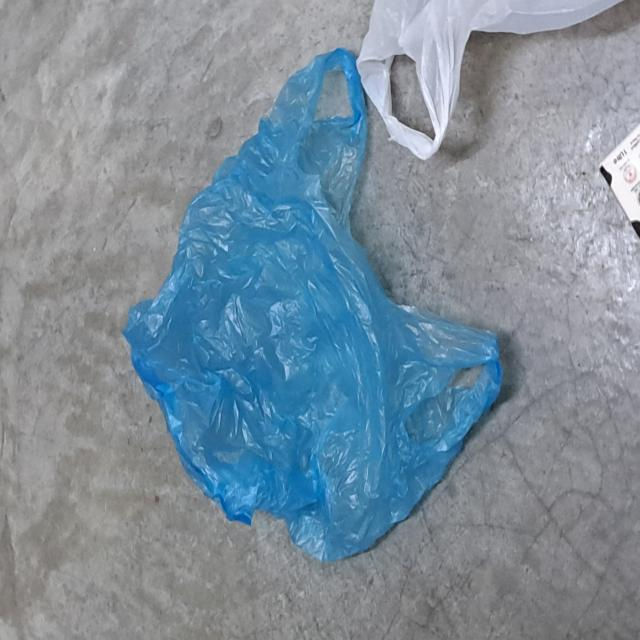plastic bag: (122, 46, 505, 564), (353, 0, 622, 159)
